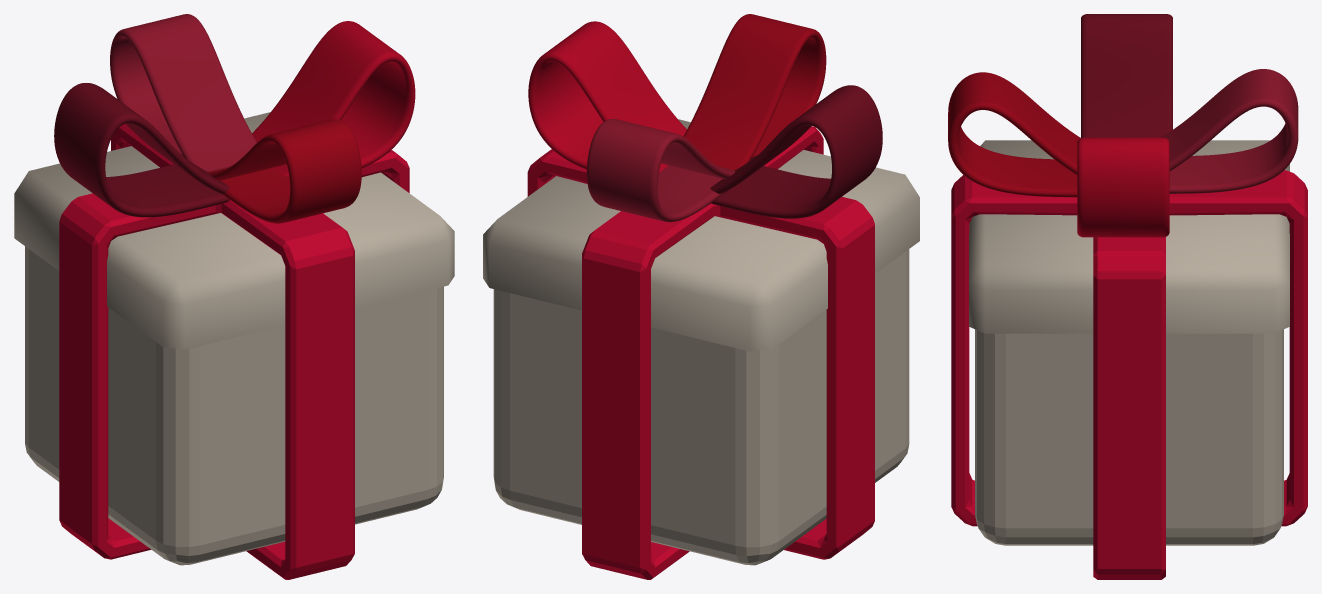
File: giftbox.fbx
3 renders of one model, left to right at view 1: azimuth 30°, elevation 25°; view 2: azimuth 150°, elevation 25°; view 3: azimuth 270°, elevation 25°, orthographic. The views are drawn at different scales.
Parts seen in each view (by area): view 1: Roundcube.002, Cube.001, NurbsPath.003, NurbsPath.001, NurbsPath, NurbsPath.002; view 2: Roundcube.002, Cube.001, NurbsPath.002, NurbsPath.001, NurbsPath, NurbsPath.003; view 3: Roundcube.002, Cube.001, NurbsPath, NurbsPath.002, NurbsPath.003, NurbsPath.001.
Part boxes in pixels (left/top/right/bottom): Roundcube.002: left=14, top=112, right=454, bottom=565; Cube.001: left=59, top=123, right=409, bottom=579; NurbsPath.003: left=110, top=14, right=256, bottom=171; NurbsPath.001: left=252, top=21, right=415, bottom=176; NurbsPath: left=54, top=83, right=229, bottom=217; NurbsPath.002: left=208, top=119, right=361, bottom=223; Roundcube.002: left=483, top=119, right=919, bottom=565; Cube.001: left=527, top=126, right=874, bottom=579; NurbsPath.002: left=683, top=14, right=826, bottom=170; NurbsPath.001: left=528, top=21, right=686, bottom=172; NurbsPath: left=710, top=85, right=882, bottom=218; NurbsPath.003: left=586, top=118, right=735, bottom=222; Roundcube.002: left=969, top=140, right=1289, bottom=545; Cube.001: left=951, top=170, right=1307, bottom=579; NurbsPath: left=1081, top=14, right=1172, bottom=137; NurbsPath.002: left=948, top=72, right=1080, bottom=197; NurbsPath.003: left=1161, top=69, right=1298, bottom=193; NurbsPath.001: left=1077, top=137, right=1169, bottom=237.
Size of the model in its own units: 221 by 297 by 222.
